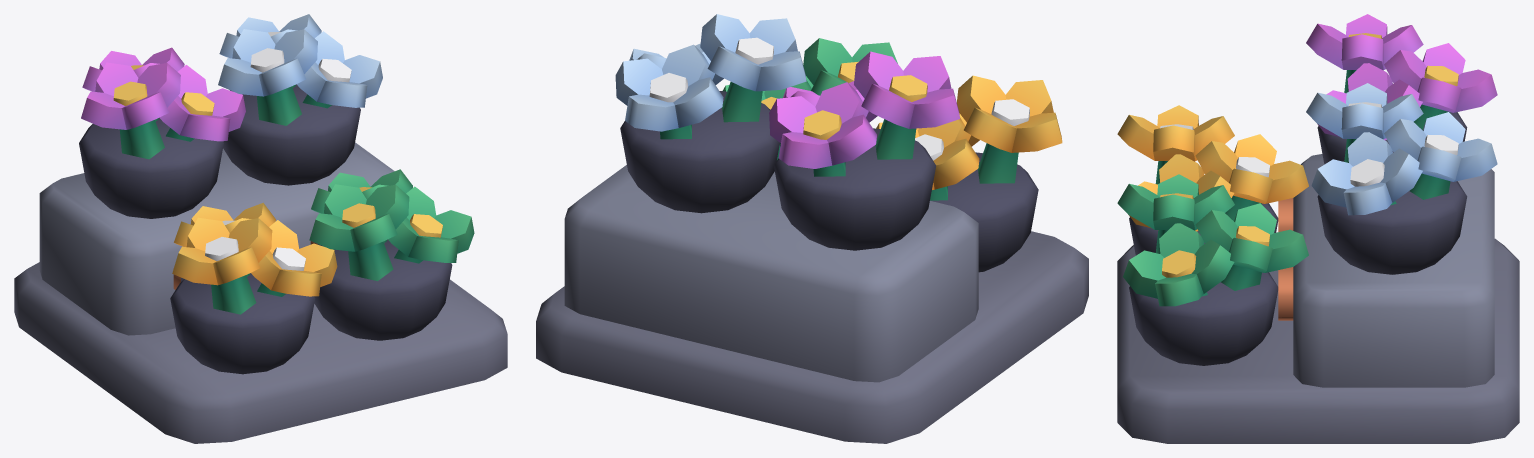
Rendered from display-flowers.obj.
3 views of the same model, side by side, from view 1: azimuth 30°, elevation 25°; view 2: azimuth 150°, elevation 25°; view 3: azimuth 270°, elevation 25° (orthographic). The views are drawn at different scales.
Visible parts, largest first — view 1: flower, display-flowers; view 2: display-flowers, flower; view 3: flower, display-flowers.
Boxes of the visible parts, x1,y1,x2,y2 form: flower: (79,14,474,374); display-flowers: (14,142,507,443); display-flowers: (536,165,1088,443); flower: (615,14,1062,272); flower: (1117,14,1497,365); display-flowers: (1117,154,1519,443).
Bounding box in the file's own units: 0.8 × 0.6321 × 0.8003.
1 material, 1 textured.
